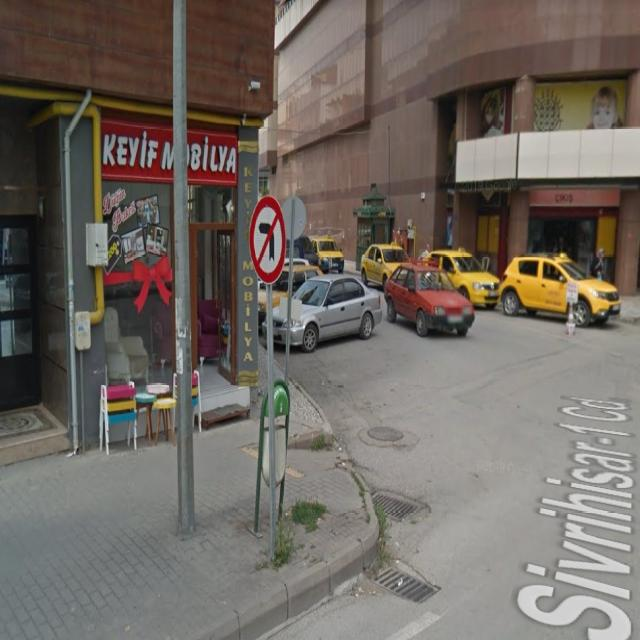soladonulmez: (249, 196, 286, 284)
